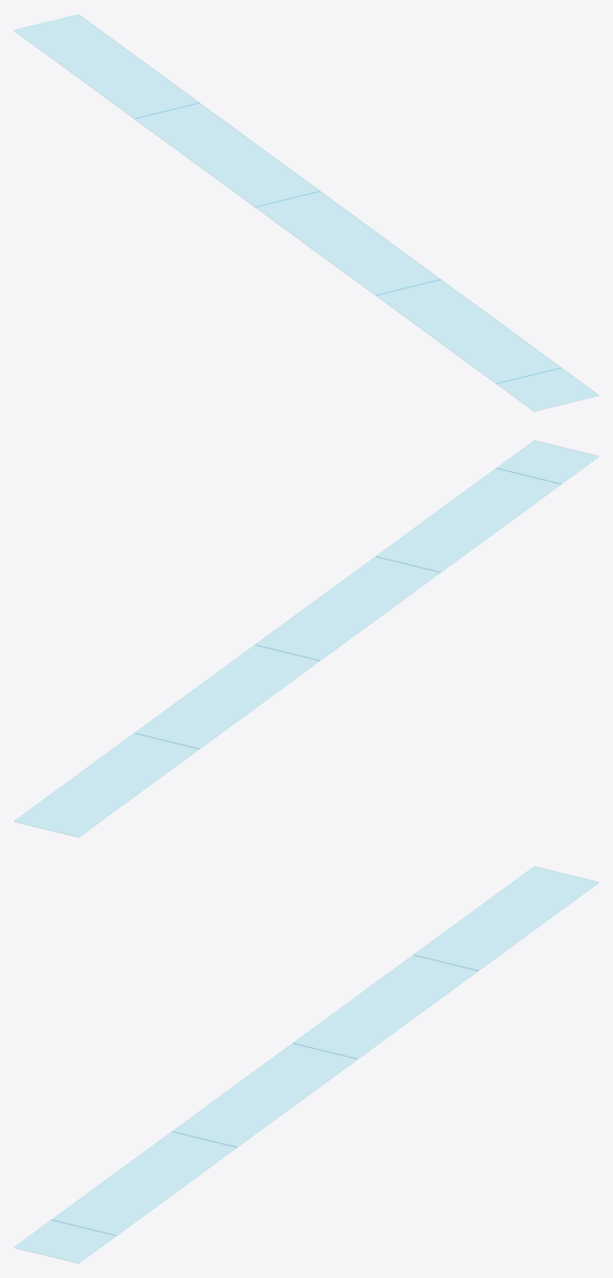
3 renders of one model, top to bottom at view 1: azimuth 30°, elevation 25°; view 2: azimuth 150°, elevation 25°; view 3: azimuth 330°, elevation 25°, orthographic.
Visible parts, largest first — view 1: 0_3_1_1_1_2_1_3_1; view 2: 0_3_1_1_1_2_1_3_1; view 3: 0_3_1_1_1_2_1_3_1.
Part boxes in pixels (<box>): 0_3_1_1_1_2_1_3_1: <box>14,14,598,411</box>; 0_3_1_1_1_2_1_3_1: <box>14,440,598,837</box>; 0_3_1_1_1_2_1_3_1: <box>14,866,598,1263</box>.
Size of the model in its own units: 1.24 by 0.025 by 17.25.
